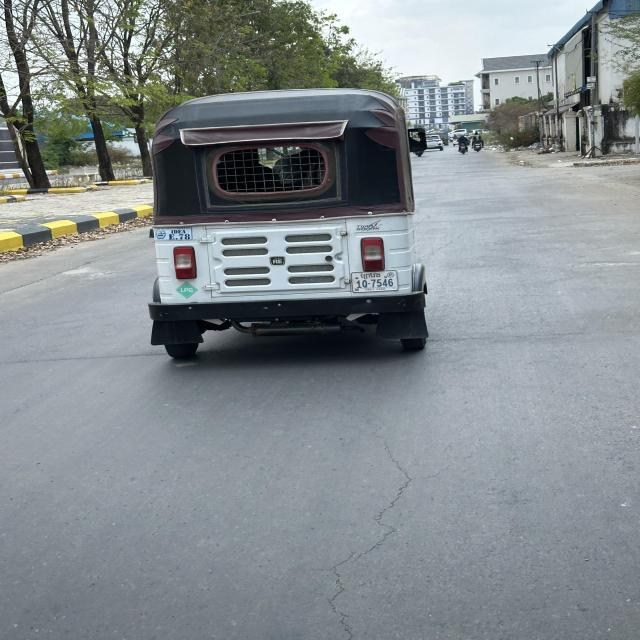Prey_Veng: (360, 272, 382, 280)
